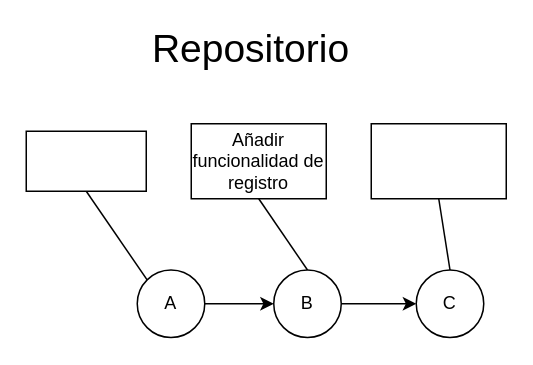
Image size: 533x365. Some labels were removed from this diagram. Each missing label, with the centre of its shape:
"Añadir funcionalidad de Login" goes at (438,160).
"Commit inicial" goes at (85,160).
